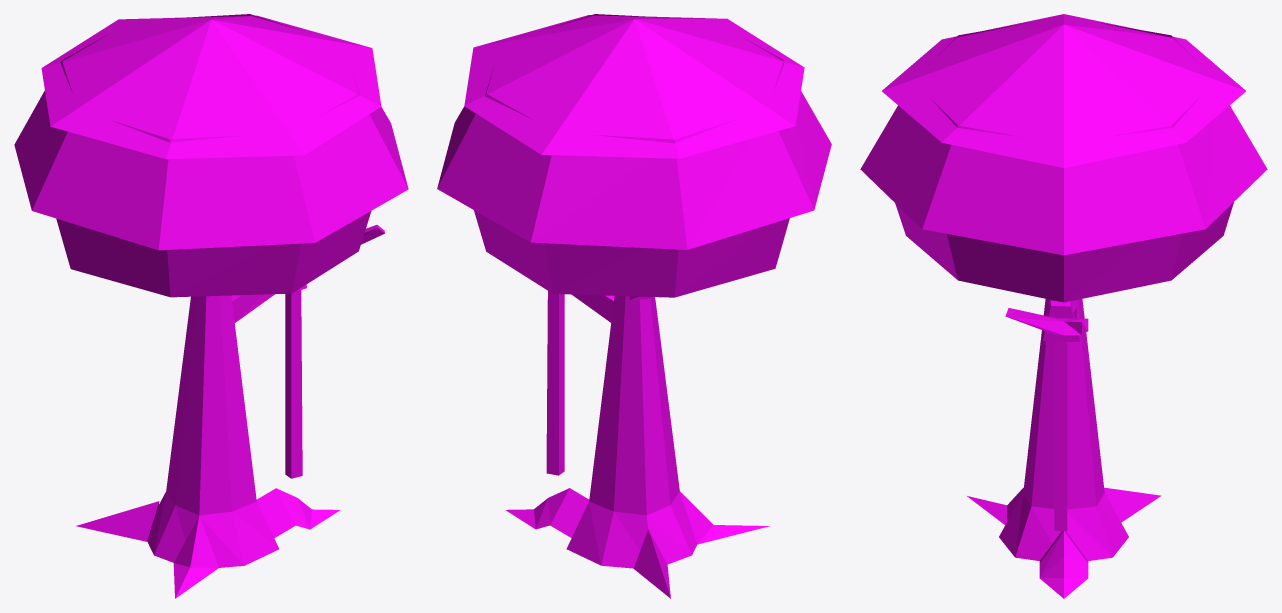
File: tree_with_rope.obj
The picture shows the model from 3 angles, left to right: view 1: azimuth 30°, elevation 25°; view 2: azimuth 150°, elevation 25°; view 3: azimuth 270°, elevation 25°; orthographic projection.
Parts seen in each view (by area): view 1: tree_with_rope_front, tree_with_rope_back; view 2: tree_with_rope_front, tree_with_rope_back; view 3: tree_with_rope_front, tree_with_rope_back.
Part boxes in pixels (x1,y1,x2,y2): tree_with_rope_front: [14, 14, 408, 297]; tree_with_rope_back: [76, 225, 384, 598]; tree_with_rope_front: [437, 14, 831, 297]; tree_with_rope_back: [505, 291, 769, 598]; tree_with_rope_front: [860, 14, 1267, 302]; tree_with_rope_back: [967, 299, 1161, 598].
Bounding box in the file's own units: 2.5 × 3.47 × 2.5.
